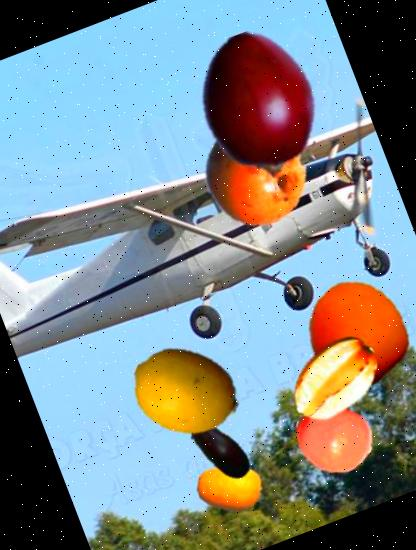Apricot: (287, 265, 416, 402)
Carambula: (272, 316, 398, 443)
Clementine: (283, 386, 385, 488)
Eggplant: (171, 400, 269, 498)
Granadilla: (187, 105, 324, 242)
Kumquats: (188, 446, 271, 529)
Lemon: (115, 320, 256, 462)
Tamarillo: (164, 10, 354, 200)
